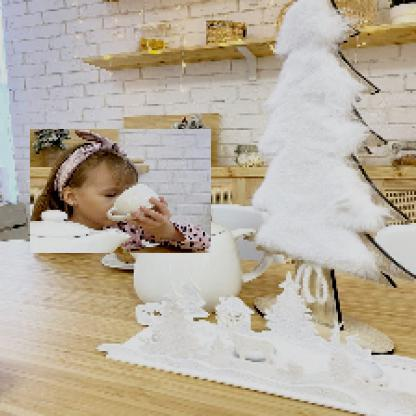child: (32, 130, 214, 255)
